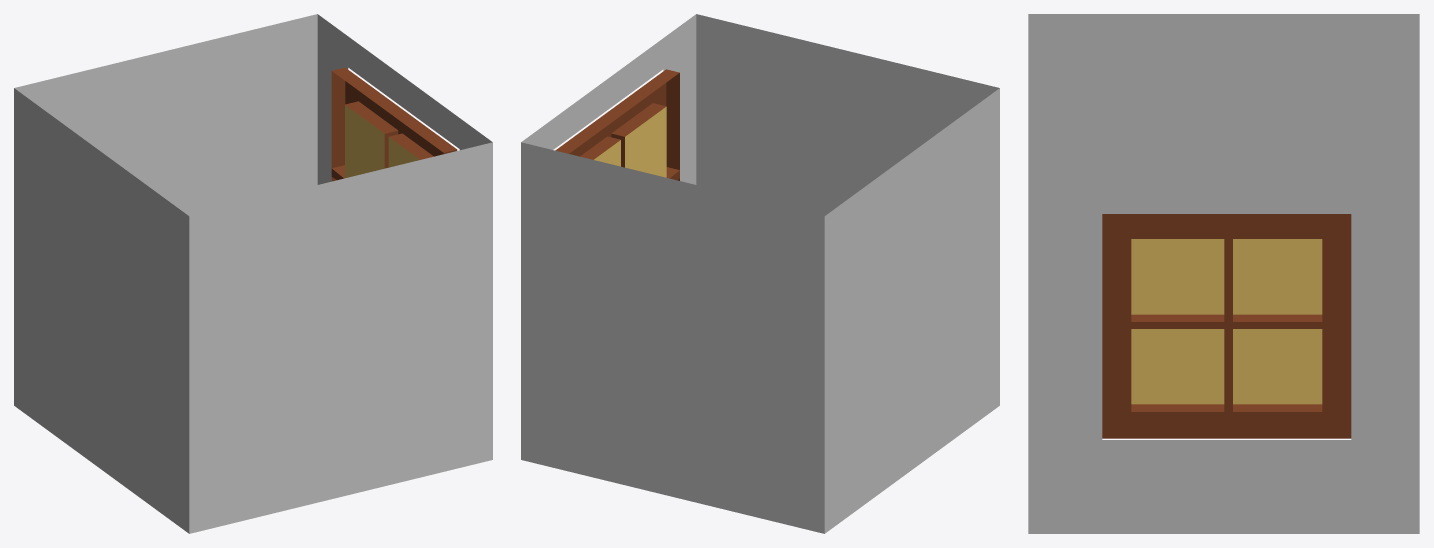
File: window_block.gltf
3 renders of one model, left to right at view 1: azimuth 30°, elevation 25°; view 2: azimuth 150°, elevation 25°; view 3: azimuth 270°, elevation 25°, orthographic. The views are drawn at different scales.
Parts seen in each view (by area): view 1: Cube, WindowFrame, WindowPane; view 2: Cube, WindowFrame, WindowPane; view 3: Cube, WindowFrame, WindowPane.
Part boxes in pixels (bbox=[...]): Cube: bbox=[14, 14, 492, 533]; WindowFrame: bbox=[331, 67, 457, 181]; WindowPane: bbox=[345, 105, 419, 178]; Cube: bbox=[521, 14, 999, 533]; WindowFrame: bbox=[555, 69, 679, 180]; WindowPane: bbox=[594, 106, 666, 177]; Cube: bbox=[1028, 14, 1419, 533]; WindowFrame: bbox=[1102, 214, 1351, 438]; WindowPane: bbox=[1131, 239, 1322, 404].
Bounding box in the file's own units: 2 × 2 × 2.
